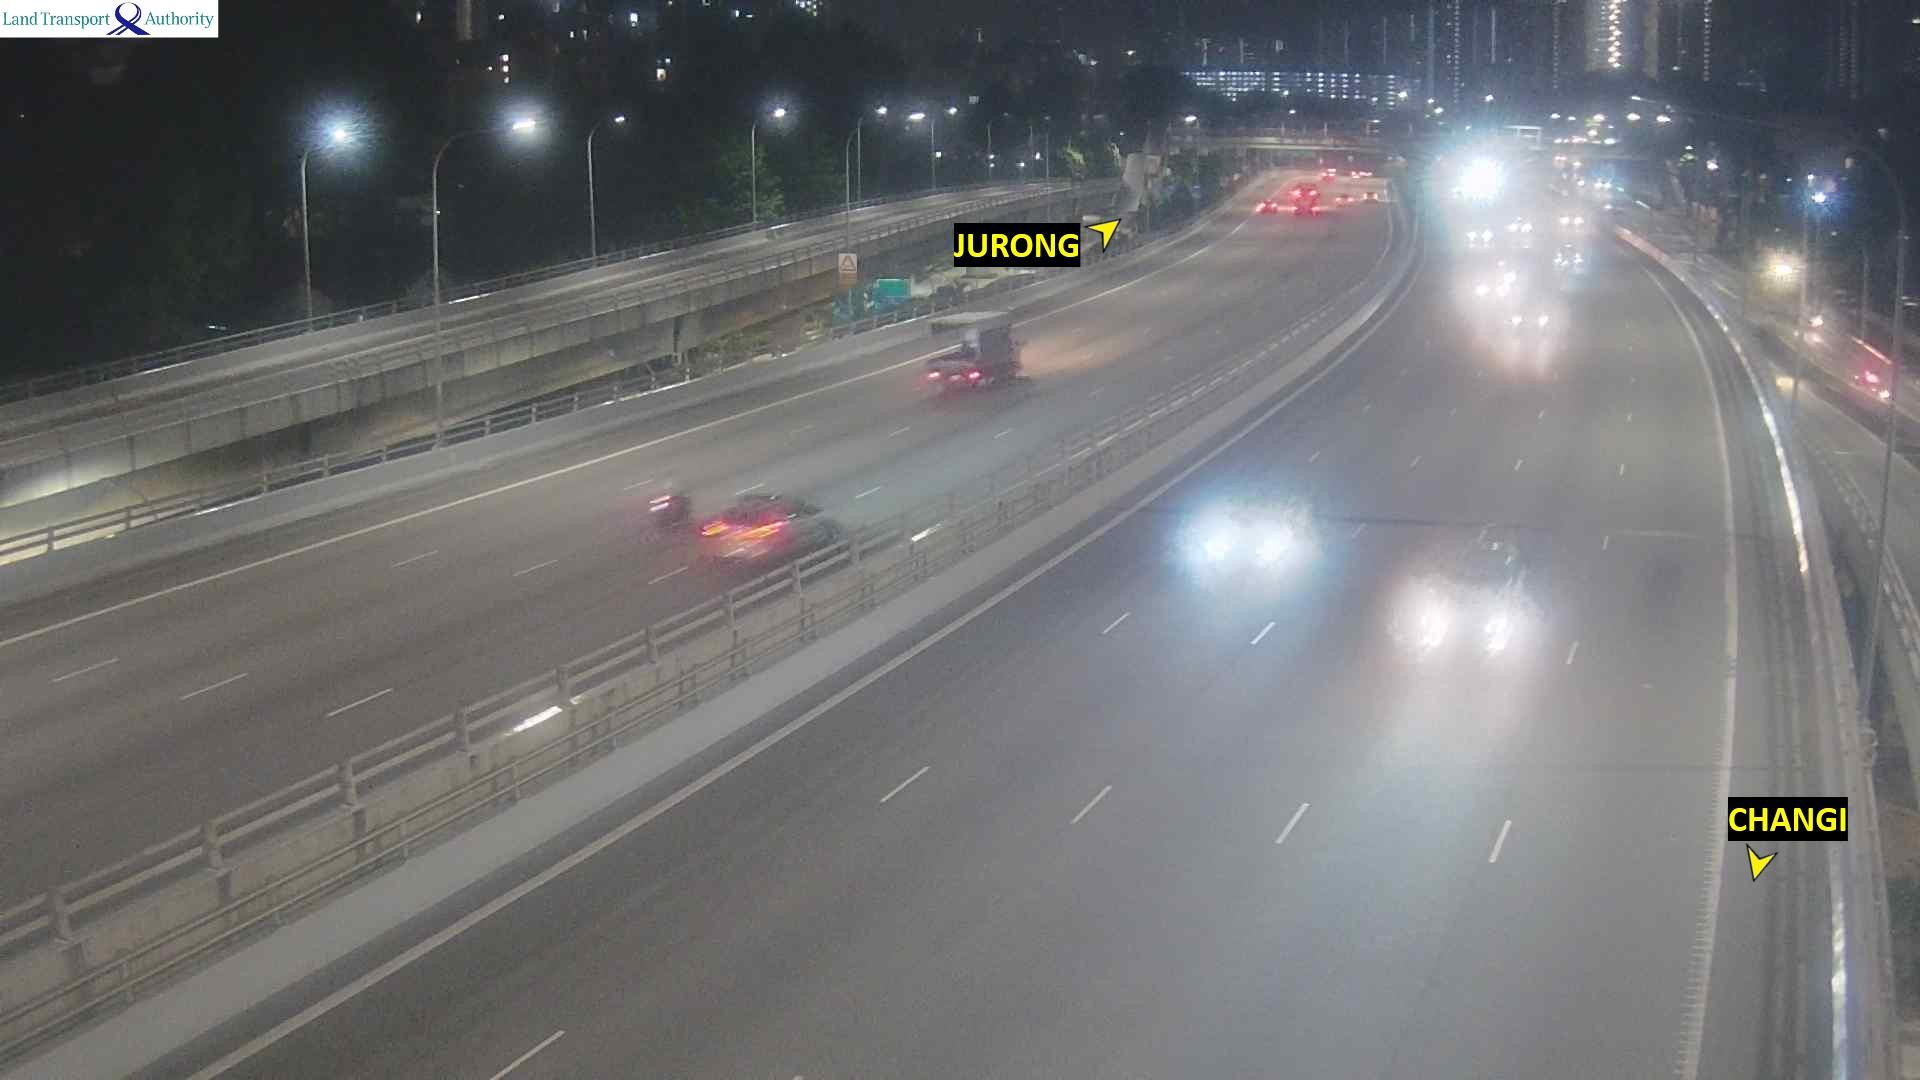cars: (1380, 536, 1541, 668), (1170, 484, 1318, 595), (696, 487, 845, 577), (619, 475, 690, 542), (645, 485, 689, 530), (1509, 296, 1548, 335), (1472, 267, 1514, 302), (1550, 240, 1597, 270), (1505, 213, 1536, 241), (1555, 205, 1587, 228), (1466, 219, 1499, 241), (1288, 179, 1323, 198), (1362, 189, 1393, 206), (1255, 199, 1280, 217), (1332, 191, 1356, 209), (1320, 168, 1342, 181)
motorcycle: (1308, 198, 1323, 219), (1289, 198, 1303, 218)
trucks: (923, 310, 1031, 394)
